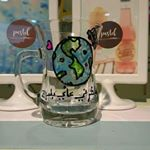cups: (13, 14, 108, 133)
